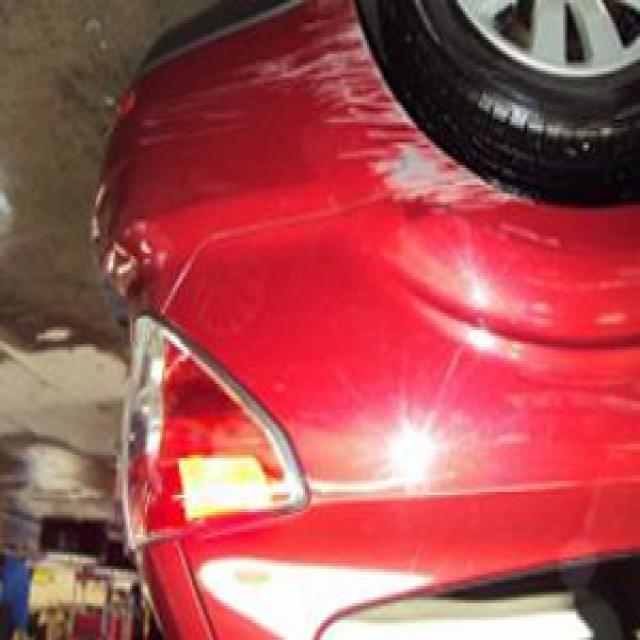scratch: (244, 12, 530, 250)
